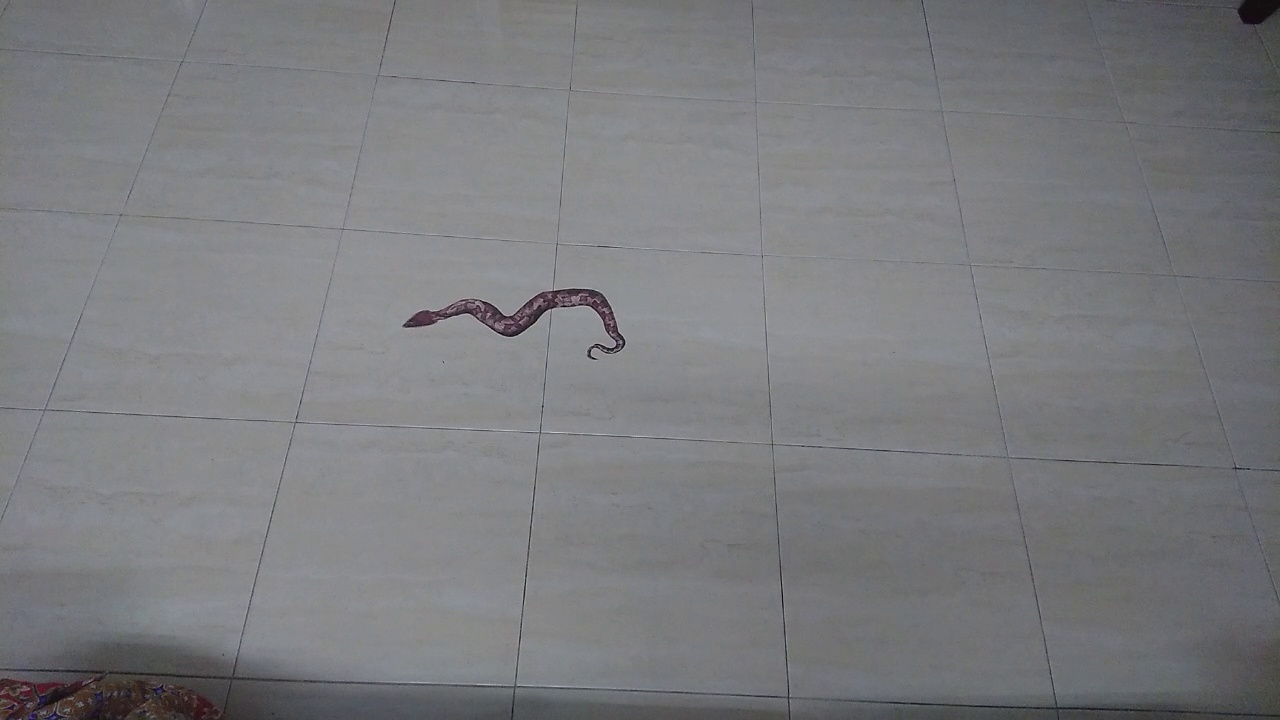snake: (386, 271, 644, 376)
